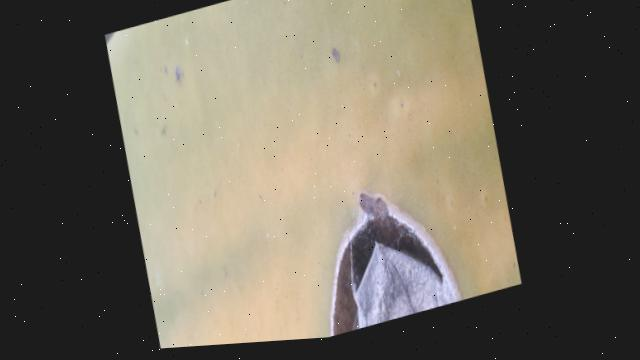stemcanker: (170, 60, 189, 95), (327, 41, 348, 70), (394, 94, 412, 117)
